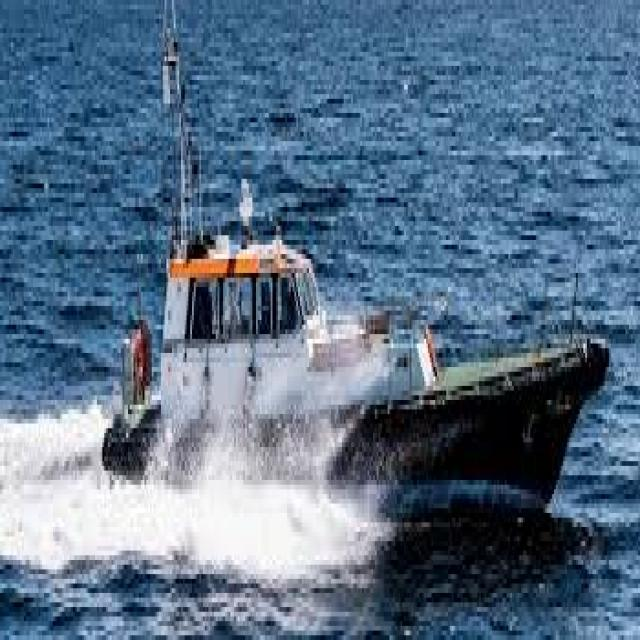houseboat: (105, 66, 614, 514)
